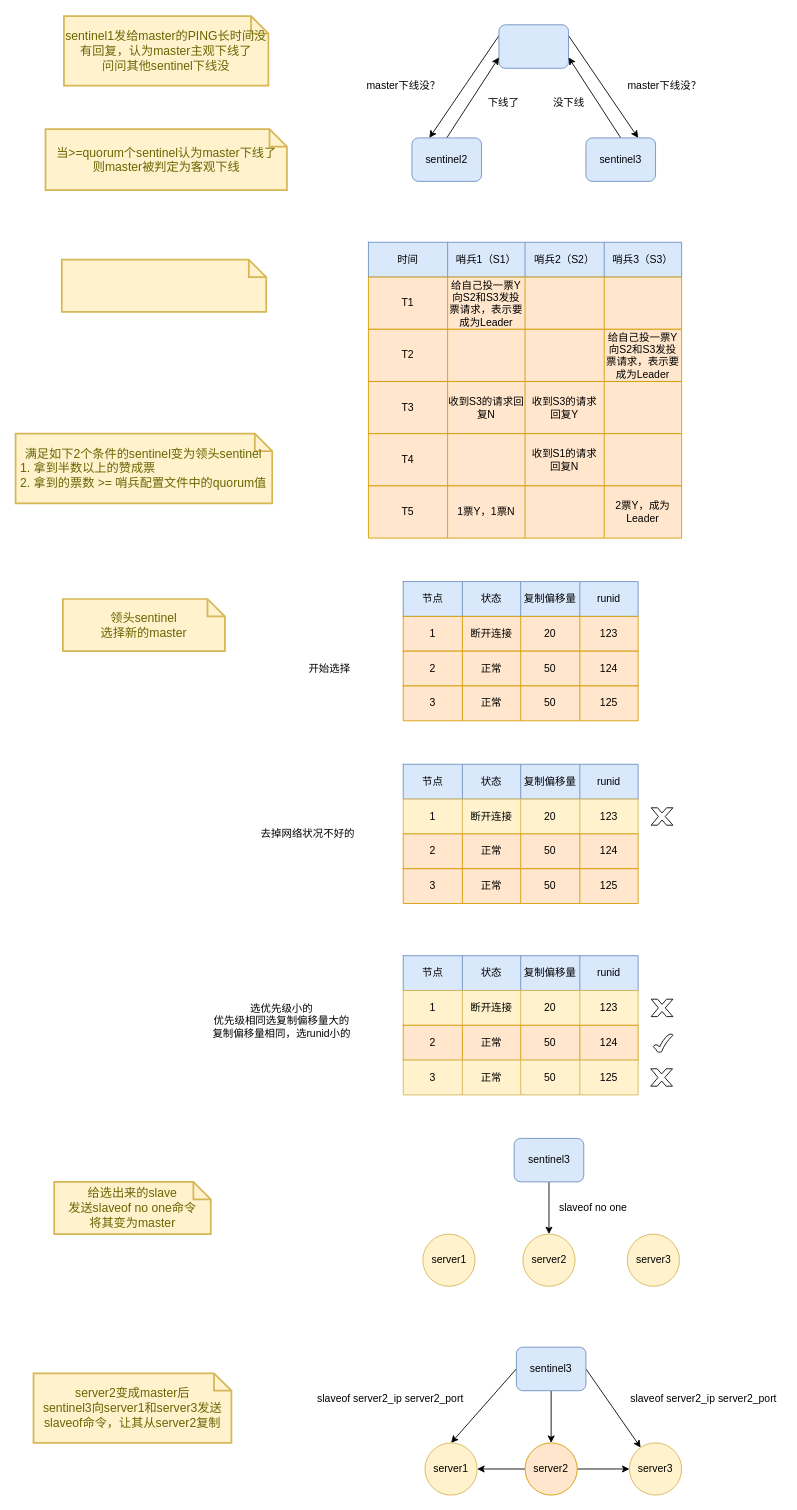
This 797x1510 diagram has some shape labels left out. The centre of each missing label's shape, as x and y in pixels:
"master被判定为客观下线后 选举领头sentinel，进行故障转移" belongs at point 163,285.
"sentinel1" belongs at point 533,46.
